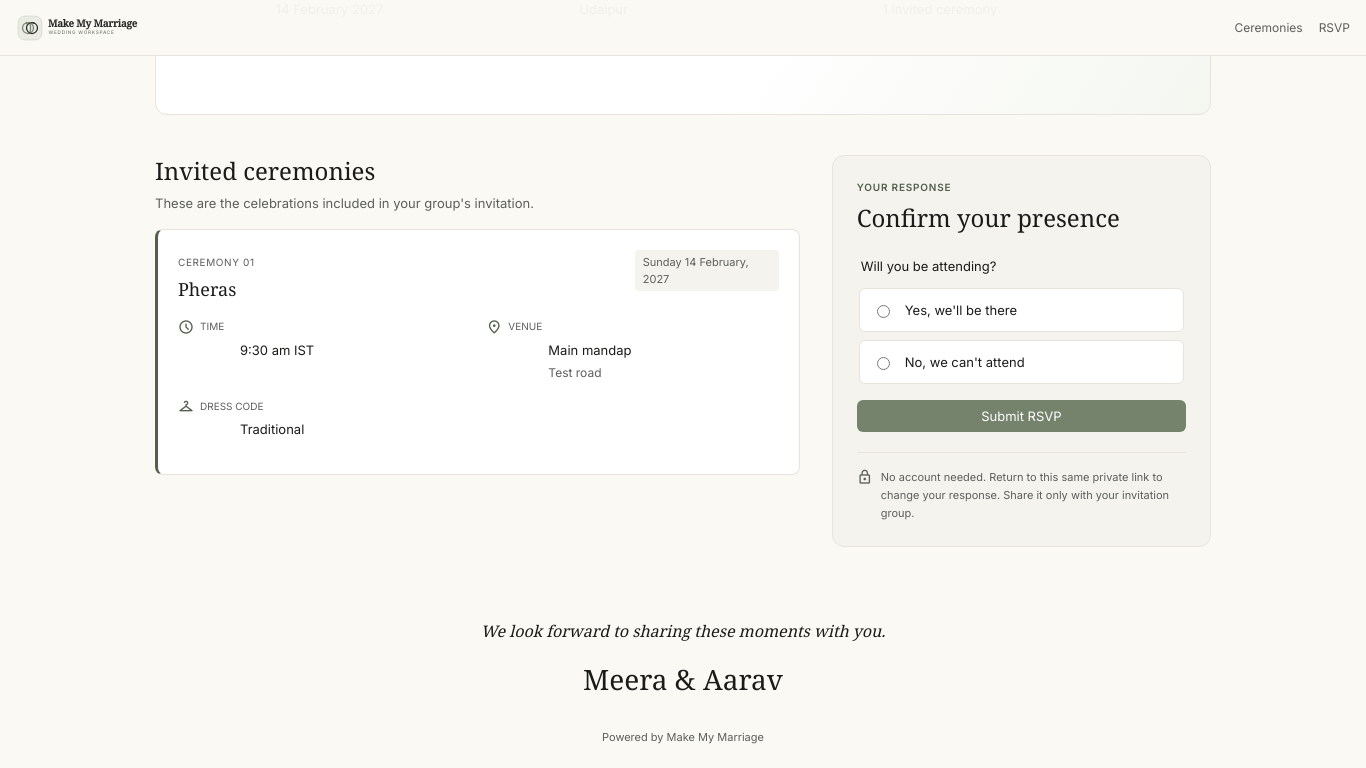
it: public invitation and RSVP › shows only invitation details, has no account controls, and requires an explicit answer
The width and height of the screenshot is (1366, 768).
(page scrolled)
Expected: the heading "Pheras" is shown, x1=178 y1=277 x2=236 y2=301
Expected: the radio button labelled "Yes, we'll be there" is not checked, x1=877 y1=305 x2=890 y2=318
What coordinates should you click on to do the following:
click the button "Submit RSVP"
I would click on:
 (1021, 416)
Its box is x1=857 y1=400 x2=1186 y2=432.
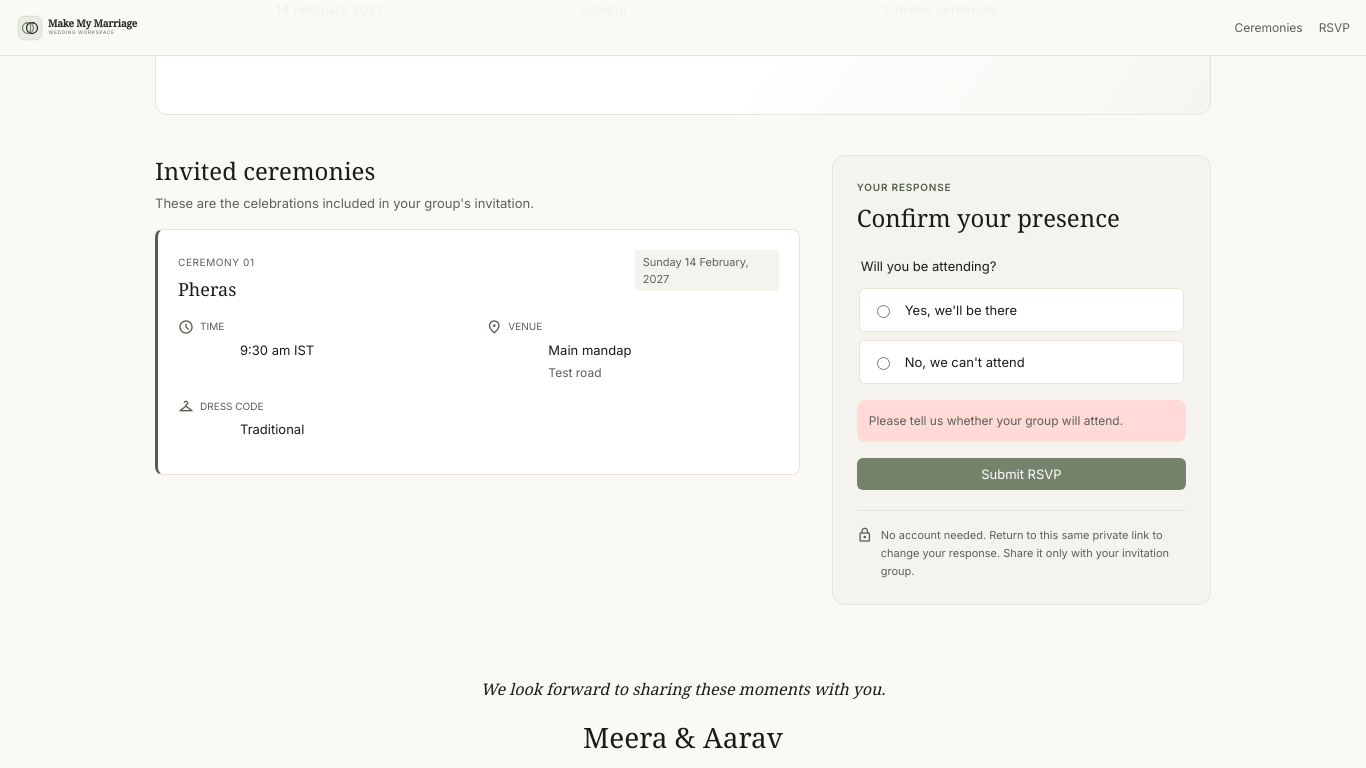
Expected: the message shows "whether your group will attend", x1=869 y1=413 x2=1123 y2=428
